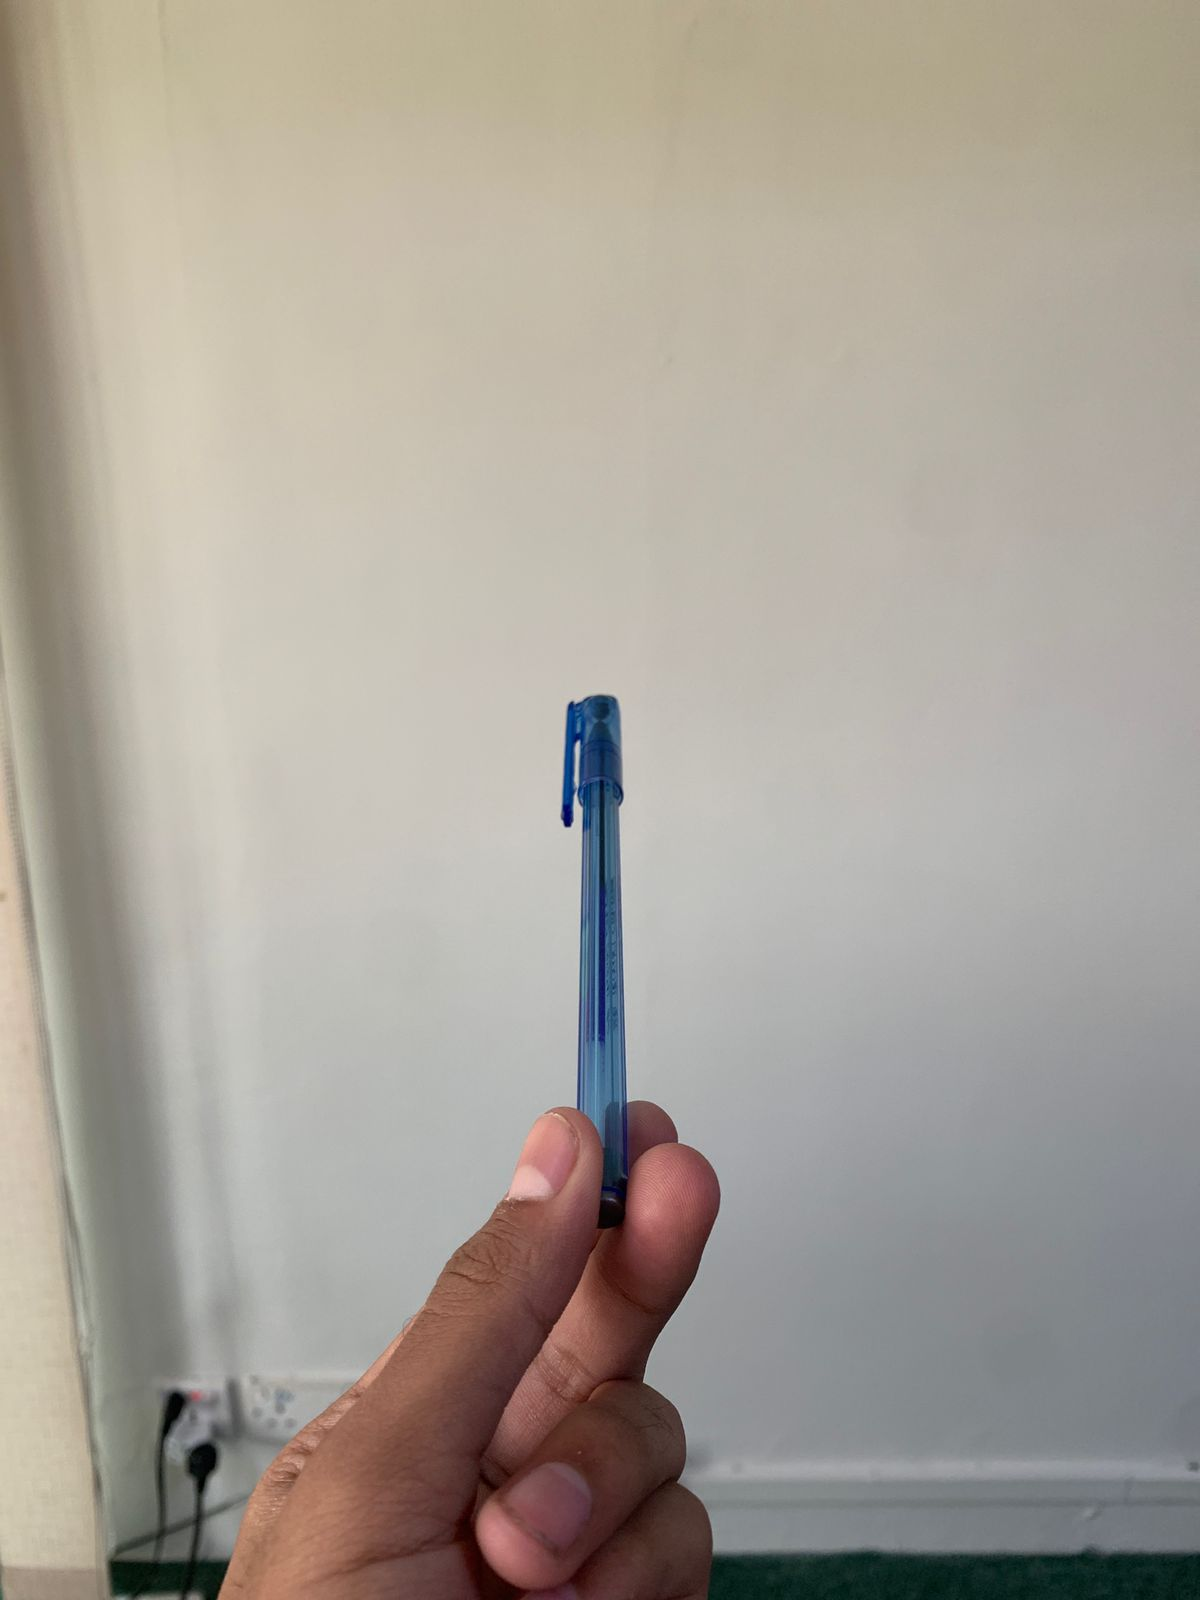pen: (502, 639, 695, 1290)
